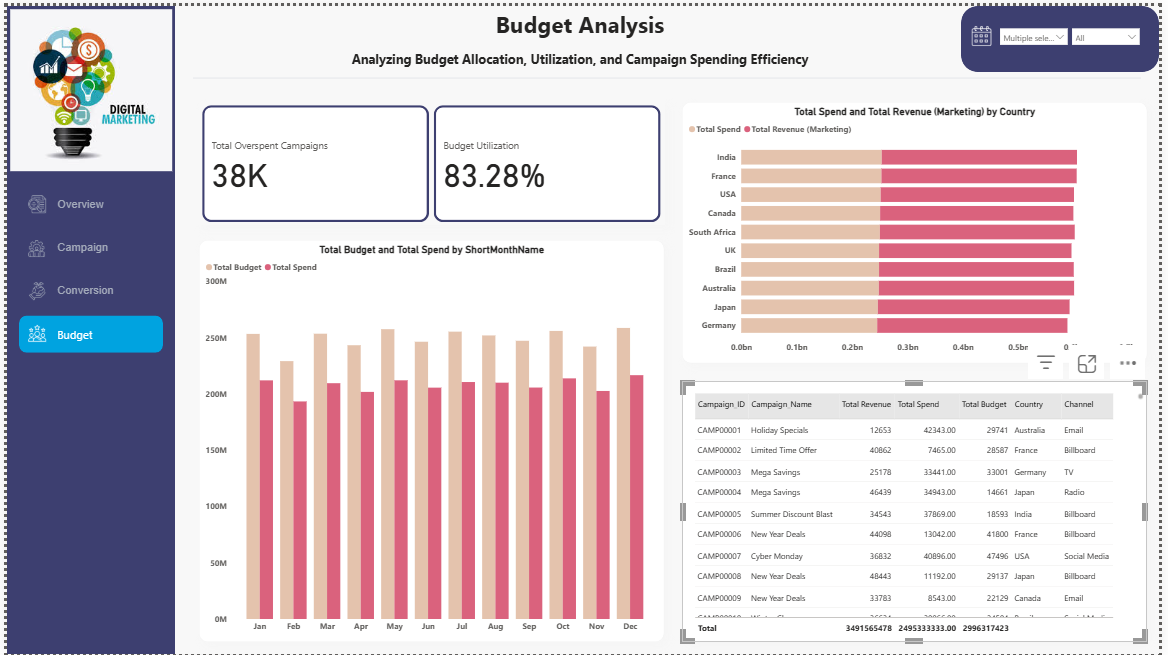

The dashboard page shown, as its layout file describes it:
{"tool":"powerbi","page":{"name":"Budget","canvas":[1920,1080],"ordinal":3},"visuals":[{"type":"shape","box":[1590,0,330,110],"z":0,"group":"g2"},{"type":"pageNavigator","box":[0,300,280,280],"z":750,"group":"g1"},{"type":"image","box":[1601,9.1,48.4,80.3],"z":1000,"group":"g2"},{"type":"image","box":[30,525,40,40],"z":1500,"group":"g1"},{"type":"slicer","fields":{"Values":["Date.Year"]},"box":[1645,27.5,132.5,72.5],"z":2000,"group":"g2"},{"type":"image","box":[30,455,40,40],"z":2000,"group":"g1"},{"type":"image","box":[30,385,40,40],"z":2500,"group":"g1"},{"type":"slicer","fields":{"Values":["Date.ShortMonthName"]},"box":[1765,27.5,132.5,75],"z":3000,"group":"g2"},{"type":"image","box":[30,310.9,40,40],"z":3000,"group":"g1"},{"type":"shape","box":[310.9,90,1580,60.2],"z":4000},{"type":"cardVisual","fields":{"Data":["_Measures.Total Overspent Campaigns","_Measures.Budget Utilization"]},"box":[320,160,775.8,205],"z":16000},{"type":"clusteredColumnChart","fields":{"Category":["Date.ShortMonthName"],"Y":["_Measures.Total Budget","_Measures.Total Spend"]},"box":[320,390,775,670],"z":17000},{"type":"barChart","fields":{"Y":["_Measures.Total Spend","_Measures.Total Revenue (Marketing)"],"Category":["Marketing Campaigns.Country"]},"box":[1125,160,775,435],"z":18000},{"type":"tableEx","fields":{"Values":["Marketing Campaigns.Campaign_ID","Marketing Campaigns.Campaign_Name","_Measures.Total Revenue (Marketing)","_Measures.Total Spend","_Measures.Total Budget","Marketing Campaigns.Country","Marketing Campaigns.Channel"]},"box":[1125.2,625,775.2,435],"z":19000},{"type":"textbox","box":[320,0,1270,120],"z":20000},{"type":"shape","box":[0,0,280,1080.5],"z":25250},{"type":"group","id":"g1","title":"Sidebar","box":[0,300,280,280],"z":25500},{"type":"group","id":"g2","title":"Filter","box":[1590,0,330,110],"z":26000},{"type":"image","box":[0,0,280,280],"z":27000}]}

Visuals, with their boxes in screenshot pixels (x1, y1, x2, y2), scaled from the page's 1920x1080 canvas onto the 1168x655 screenshot:
shape: bbox(967, 0, 1167, 67)
pageNavigator: bbox(0, 182, 170, 352)
image: bbox(974, 6, 1003, 54)
image: bbox(18, 318, 43, 343)
slicer - Date.Year: bbox(1001, 17, 1081, 61)
image: bbox(18, 276, 43, 300)
image: bbox(18, 233, 43, 258)
slicer - Date.ShortMonthName: bbox(1074, 17, 1154, 62)
image: bbox(18, 189, 43, 213)
shape: bbox(189, 55, 1150, 91)
cardVisual - _Measures.Total Overspent Campaigns x _Measures.Budget Utilization: bbox(195, 97, 667, 221)
clusteredColumnChart - Date.ShortMonthName x _Measures.Total Budget: bbox(195, 237, 666, 643)
barChart - _Measures.Total Spend x _Measures.Total Revenue (Marketing): bbox(684, 97, 1156, 361)
tableEx - Marketing Campaigns.Campaign_ID x Marketing Campaigns.Campaign_Name: bbox(684, 379, 1156, 643)
textbox: bbox(195, 0, 967, 73)
shape: bbox(0, 0, 170, 654)
"Sidebar" group: bbox(0, 182, 170, 352)
"Filter" group: bbox(967, 0, 1167, 67)
image: bbox(0, 0, 170, 170)
